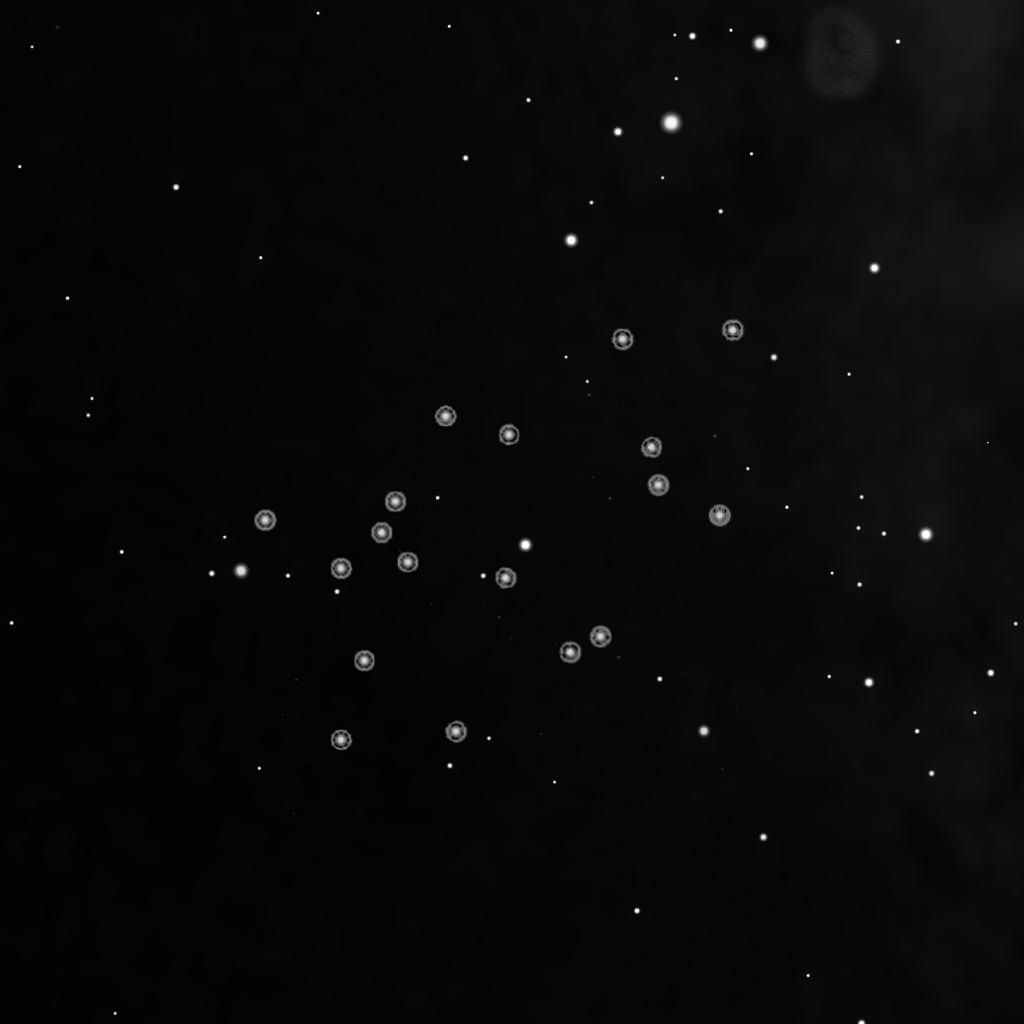canis_major: (326, 403, 524, 581)
